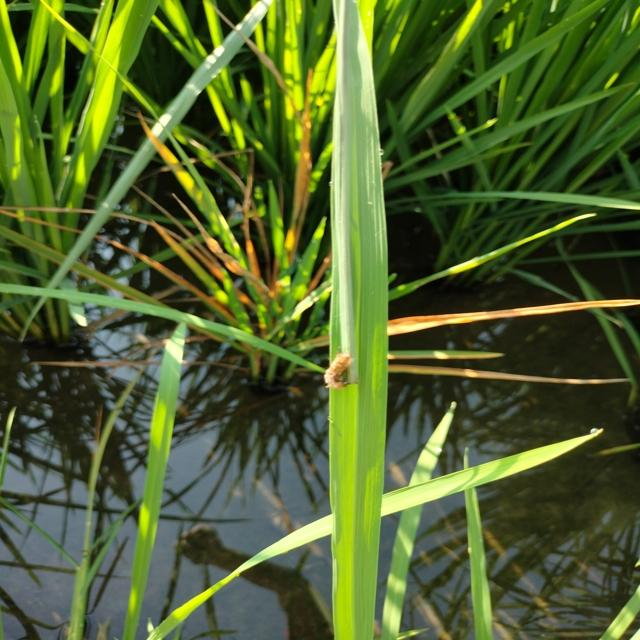Brown spot: (387, 292, 640, 337), (175, 190, 277, 299), (386, 360, 637, 390), (284, 61, 318, 273), (128, 107, 180, 170), (387, 345, 509, 364)
